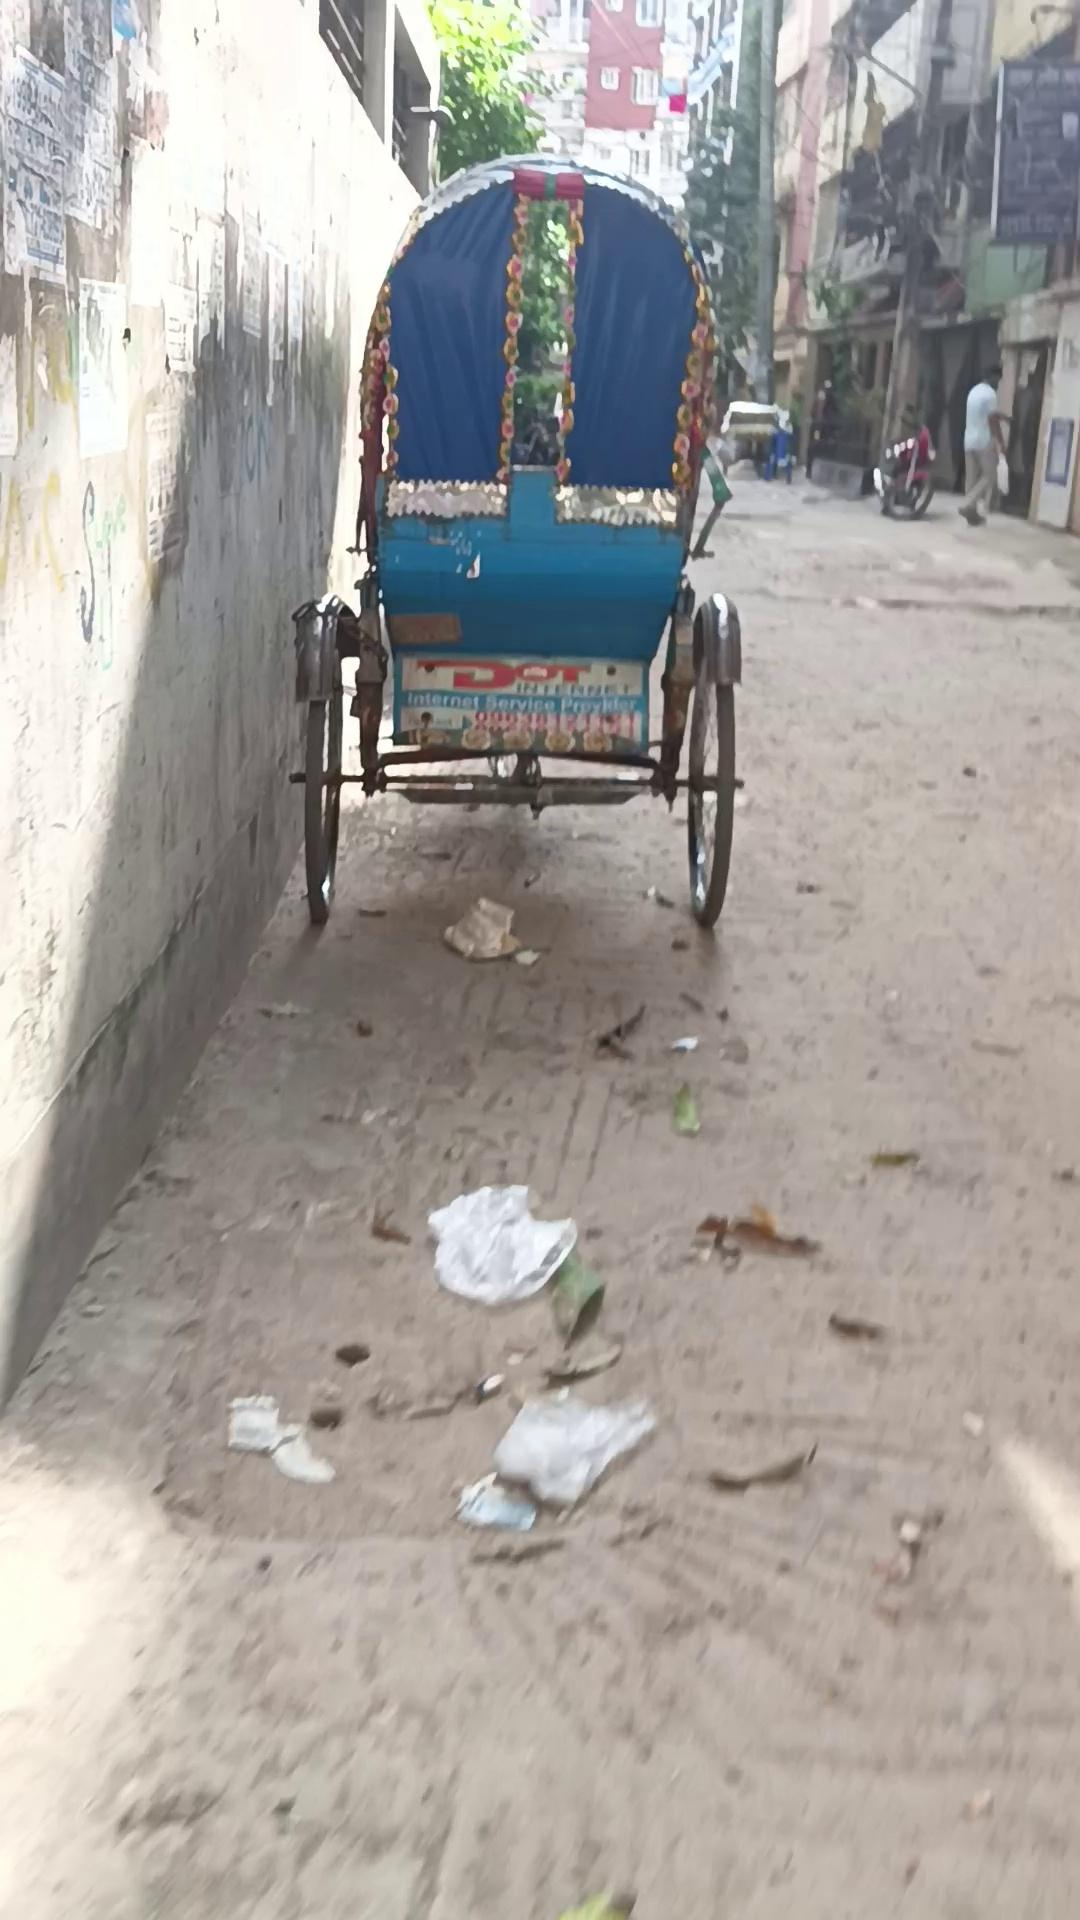Light-pole: (872, 410, 936, 520)
Muddy road: (956, 363, 1010, 525)
Pothole: (289, 150, 746, 931)
Potted-plant: (3, 450, 1077, 1916)
